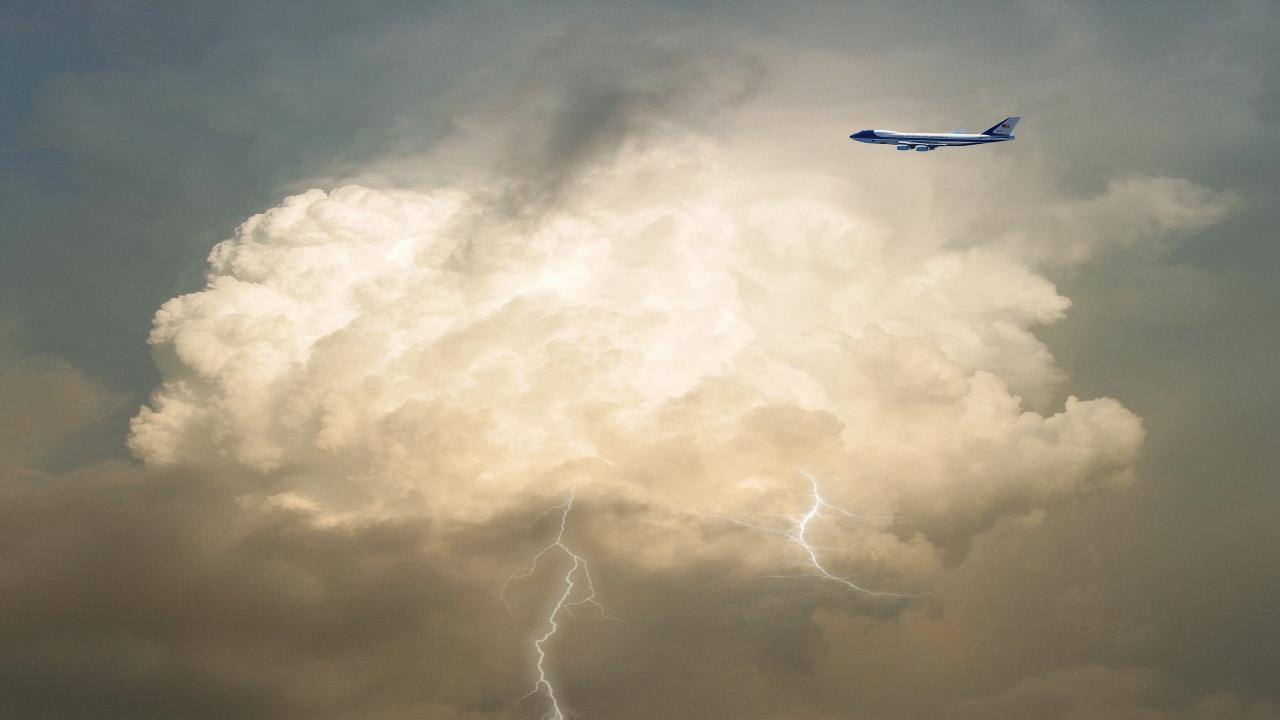Airplane: (838, 106, 1040, 162)
